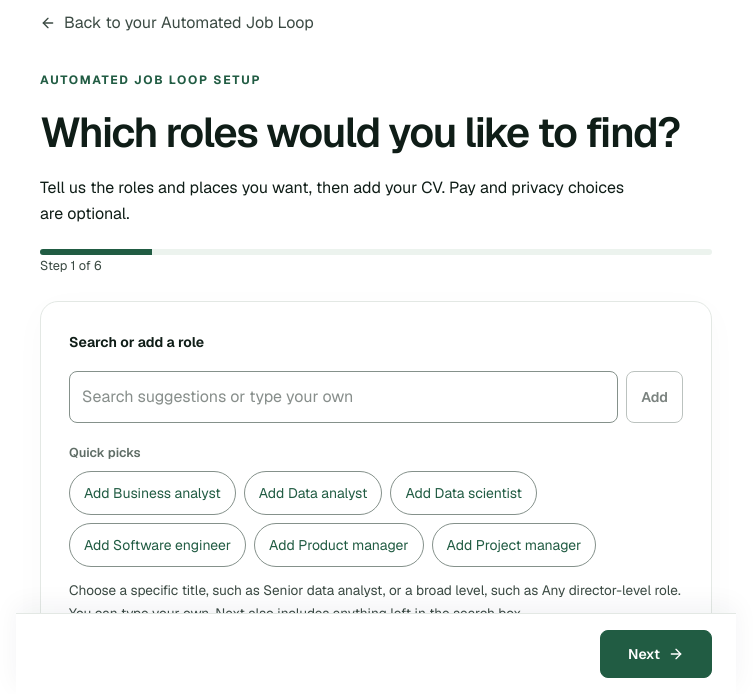
Test case: Roles step: one-tap choices › a role chosen with one tap lets Next through, with no error, and the choice is kept on Back
Later steps or results of the test are not shown.
Click the button "Add Data scientist" at (464, 494), box [390, 472, 537, 516]
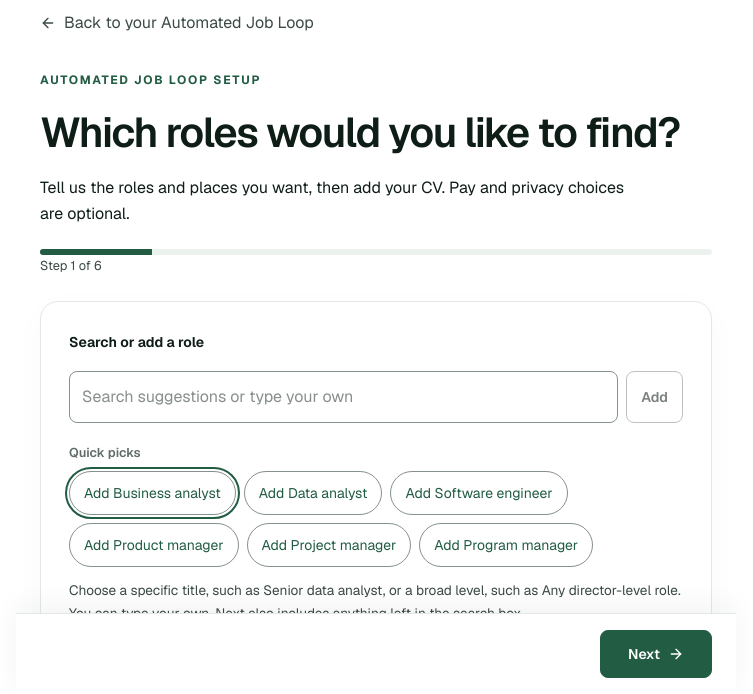
Click the button "Next" at (656, 654), box [600, 630, 712, 678]
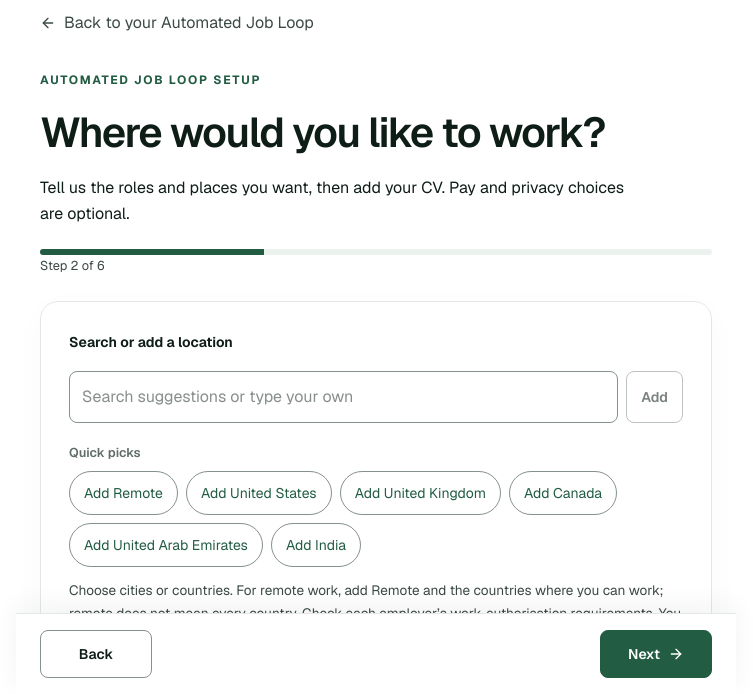
expect the heading reads "Where would you like to work?": met, box [40, 105, 605, 159]
